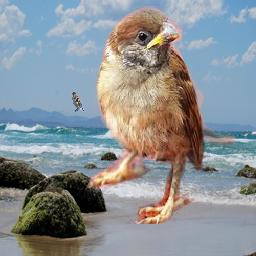Sparrow: (85, 6, 237, 224), (72, 92, 85, 113)
